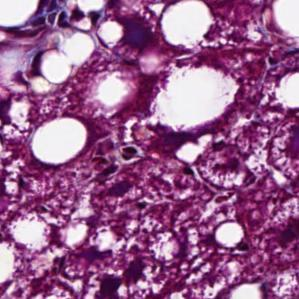inflammation: (53, 6, 105, 33), (107, 142, 145, 169)
